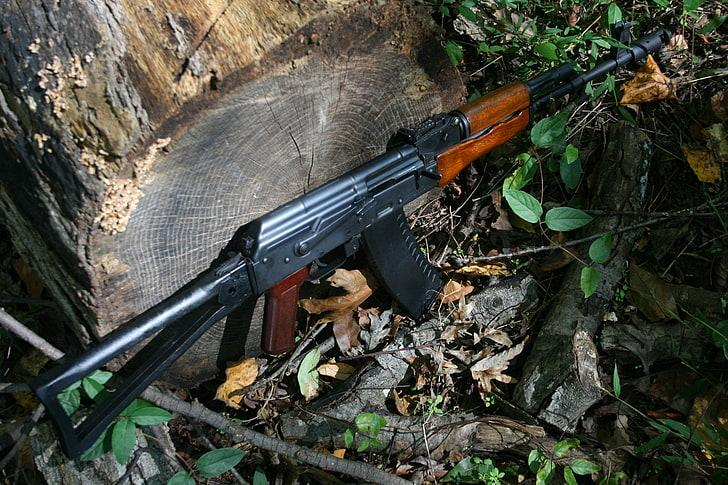larga: (29, 21, 673, 461)
